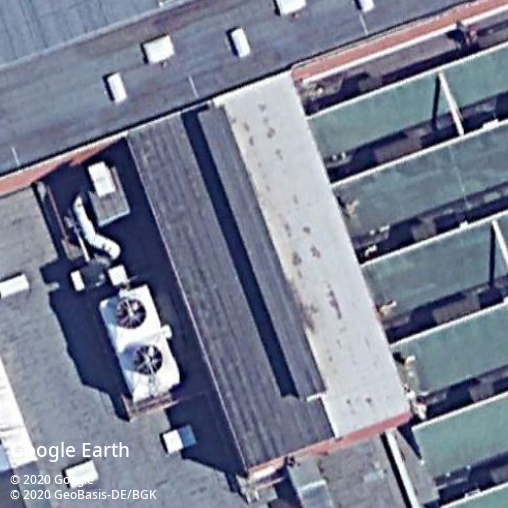Vent: (116, 298, 147, 330), (133, 344, 163, 375)
